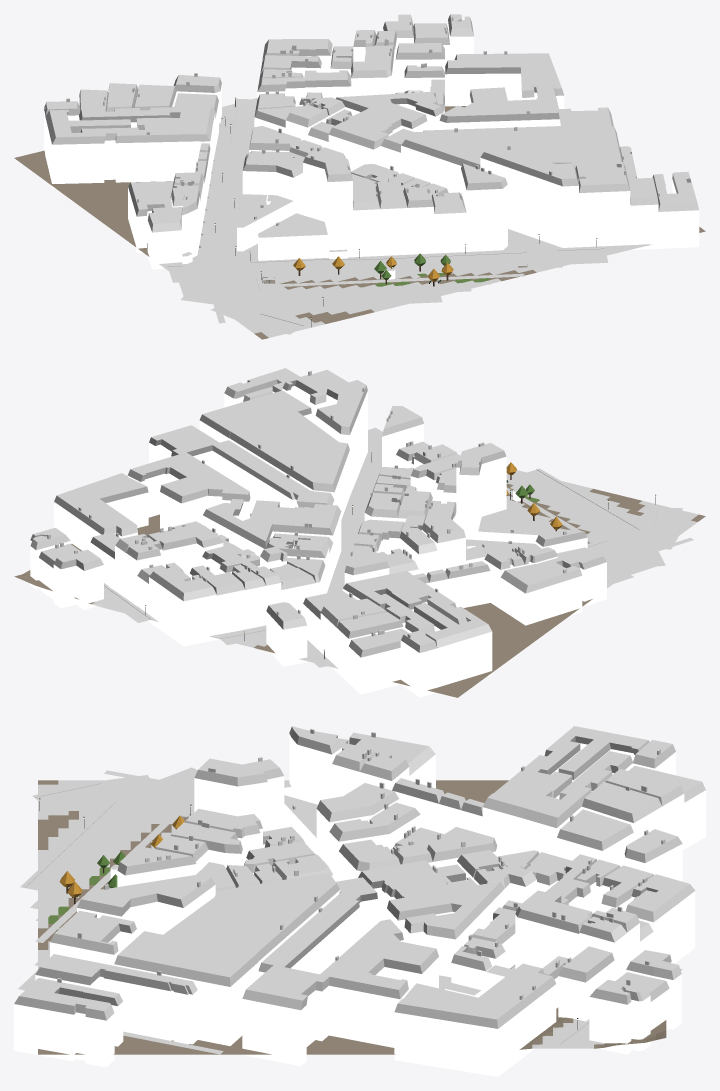
The model's file is zone_B3.glb.
3 views of the same model, one above another, from view 1: azimuth 30°, elevation 25°; view 2: azimuth 150°, elevation 25°; view 3: azimuth 270°, elevation 25° (orthographic). The views are drawn at different scales.
Visible parts, largest first — view 1: zone_B3_batiments, zone_B3_sol_NOCOL, zone_B3_terrain, zone_B3_decor_NOCOL; view 2: zone_B3_batiments, zone_B3_sol_NOCOL, zone_B3_terrain, zone_B3_decor_NOCOL; view 3: zone_B3_batiments, zone_B3_sol_NOCOL, zone_B3_terrain, zone_B3_decor_NOCOL.
Part boxes in pixels (left/top/right/bottom): zone_B3_batiments: left=44, top=14, right=699, bottom=279; zone_B3_sol_NOCOL: left=167, top=92, right=649, bottom=334; zone_B3_terrain: left=14, top=93, right=705, bottom=339; zone_B3_decor_NOCOL: left=214, top=97, right=597, bottom=326; zone_B3_batiments: left=30, top=368, right=606, bottom=697; zone_B3_sol_NOCOL: left=104, top=427, right=693, bottom=667; zone_B3_terrain: left=14, top=451, right=705, bottom=697; zone_B3_decor_NOCOL: left=145, top=452, right=655, bottom=659; zone_B3_batiments: left=14, top=726, right=705, bottom=1076; zone_B3_sol_NOCOL: left=18, top=767, right=682, bottom=1054; zone_B3_terrain: left=38, top=780, right=666, bottom=1054; zone_B3_decor_NOCOL: left=39, top=798, right=578, bottom=1029.
Size of the model in its own units: 209 by 36.7 by 201.
